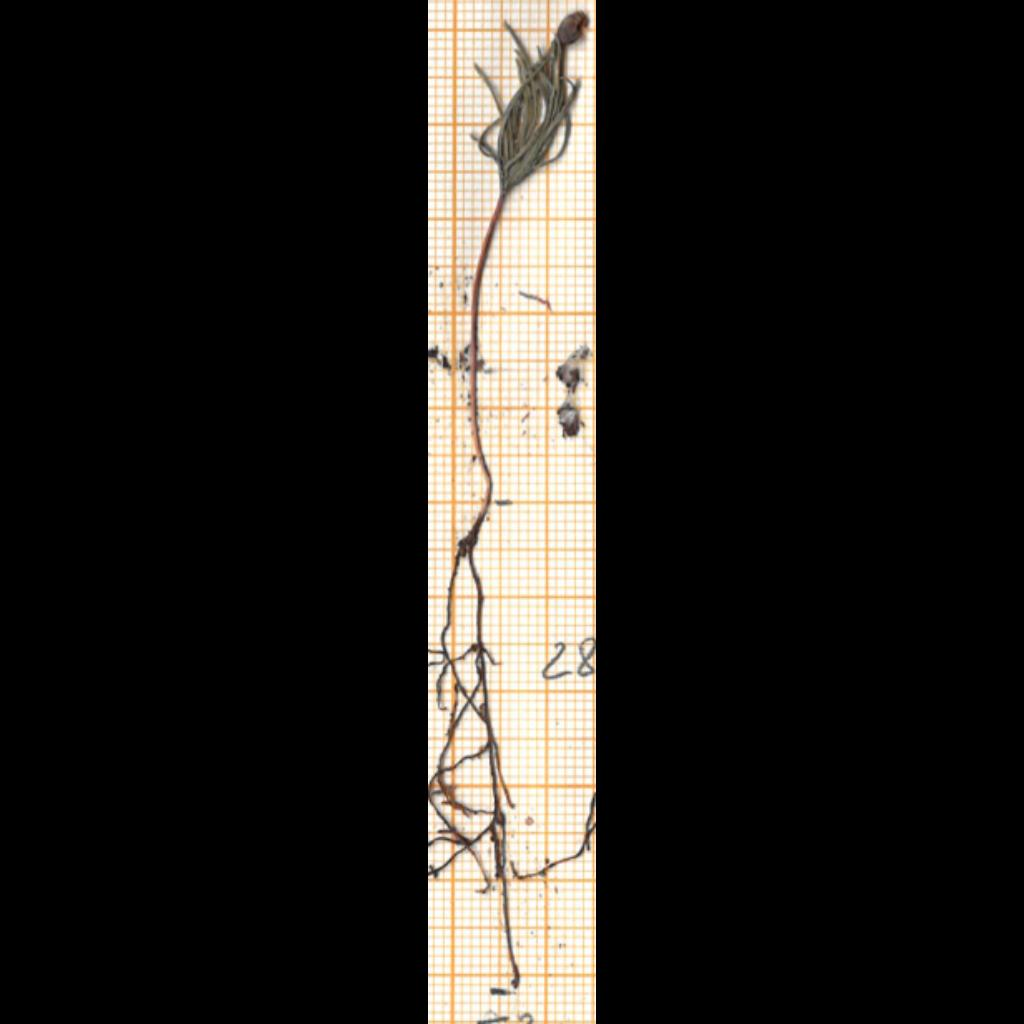flowerPinus: (478, 12, 586, 195)
rootPinus: (428, 517, 519, 988)
stemPinus: (470, 194, 504, 511)
